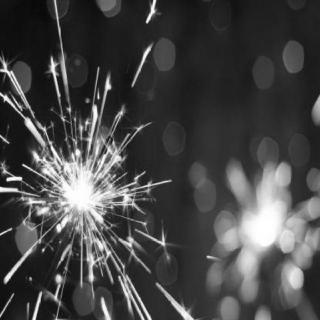other: (35, 134, 127, 243)
